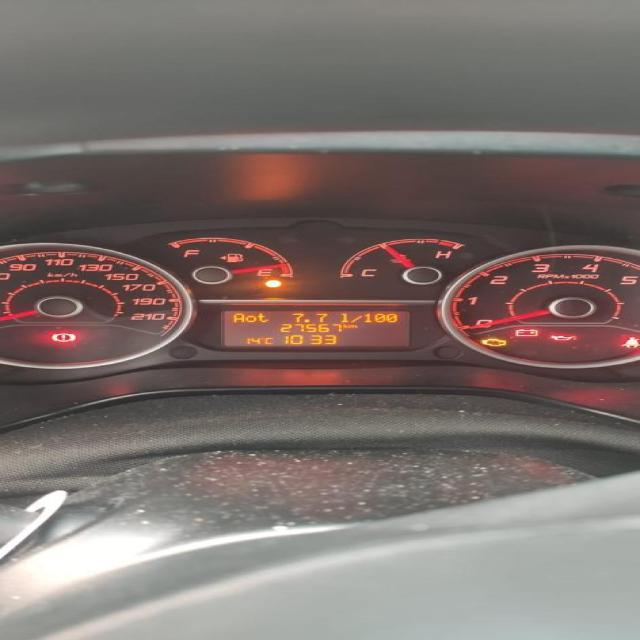odometer: (213, 307, 416, 350)
